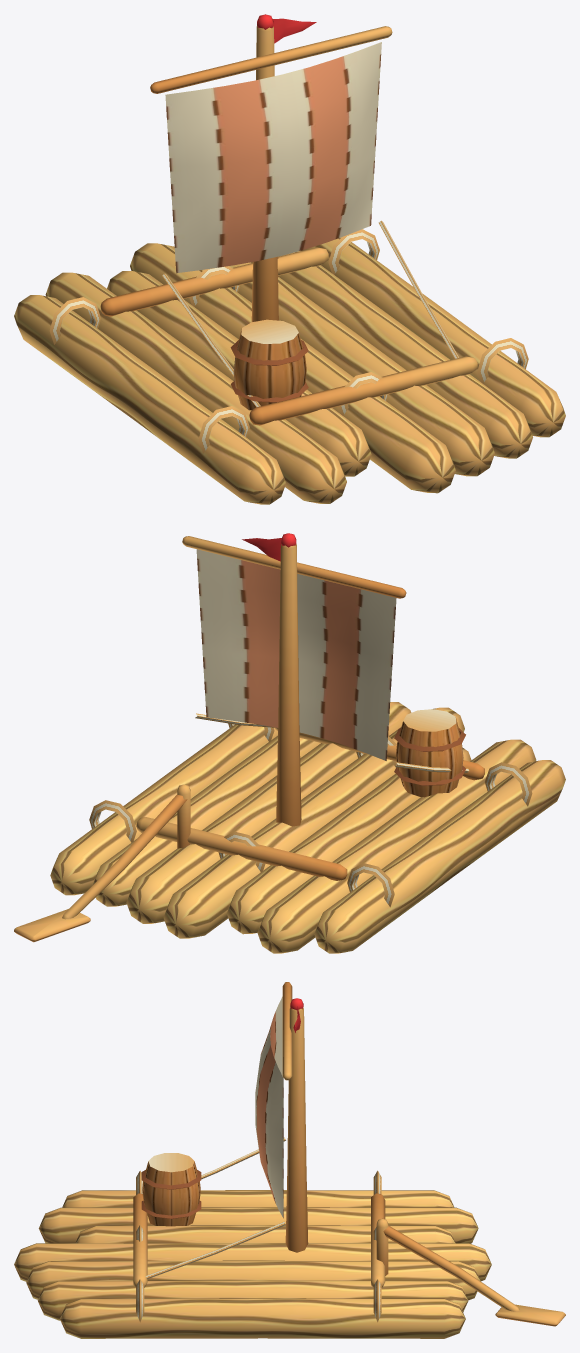
File: raft.glb
The picture shows the model from 3 angles, top to bottom: view 1: azimuth 30°, elevation 25°; view 2: azimuth 150°, elevation 25°; view 3: azimuth 270°, elevation 25°; orthographic projection. The views are drawn at different scales.
Parts seen in each view (by area): view 1: raft; view 2: raft; view 3: raft.
Part boxes in pixels (bbox=[...]): raft: bbox=[14, 14, 565, 504]; raft: bbox=[14, 533, 565, 953]; raft: bbox=[14, 982, 565, 1338].
Bounding box in the file's own units: 3.2 × 3.33 × 5.81.
Materials: 2 (2 with a texture image).
